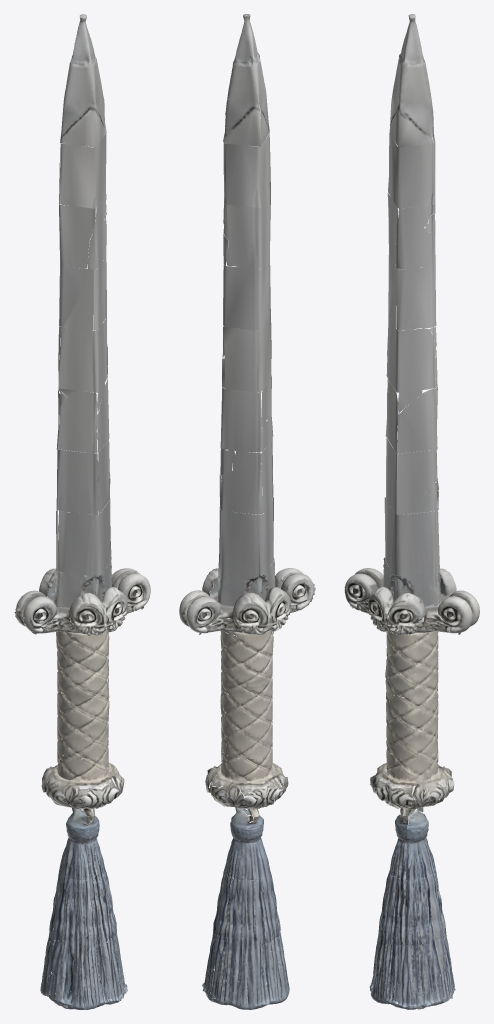
Rendered from xln_sword_game.glb.
3 renders of one model, left to right at view 1: azimuth 30°, elevation 25°; view 2: azimuth 210°, elevation 25°; view 3: azimuth 330°, elevation 25°, orthographic.
Parts seen in each view (by area): view 1: tripo_node_f810d332-13df-4ce7-a1a9-c7027eea9cd6; view 2: tripo_node_f810d332-13df-4ce7-a1a9-c7027eea9cd6; view 3: tripo_node_f810d332-13df-4ce7-a1a9-c7027eea9cd6.
Boxes of the visible parts, x1=… form: tripo_node_f810d332-13df-4ce7-a1a9-c7027eea9cd6: x1=14, y1=14, x2=150, y2=1009; tripo_node_f810d332-13df-4ce7-a1a9-c7027eea9cd6: x1=179, y1=14, x2=315, y2=1009; tripo_node_f810d332-13df-4ce7-a1a9-c7027eea9cd6: x1=344, y1=14, x2=479, y2=1009.
Bounding box in the file's own units: 0.1342 × 0.9816 × 0.0924.
Materials: 1 (1 with a texture image).
